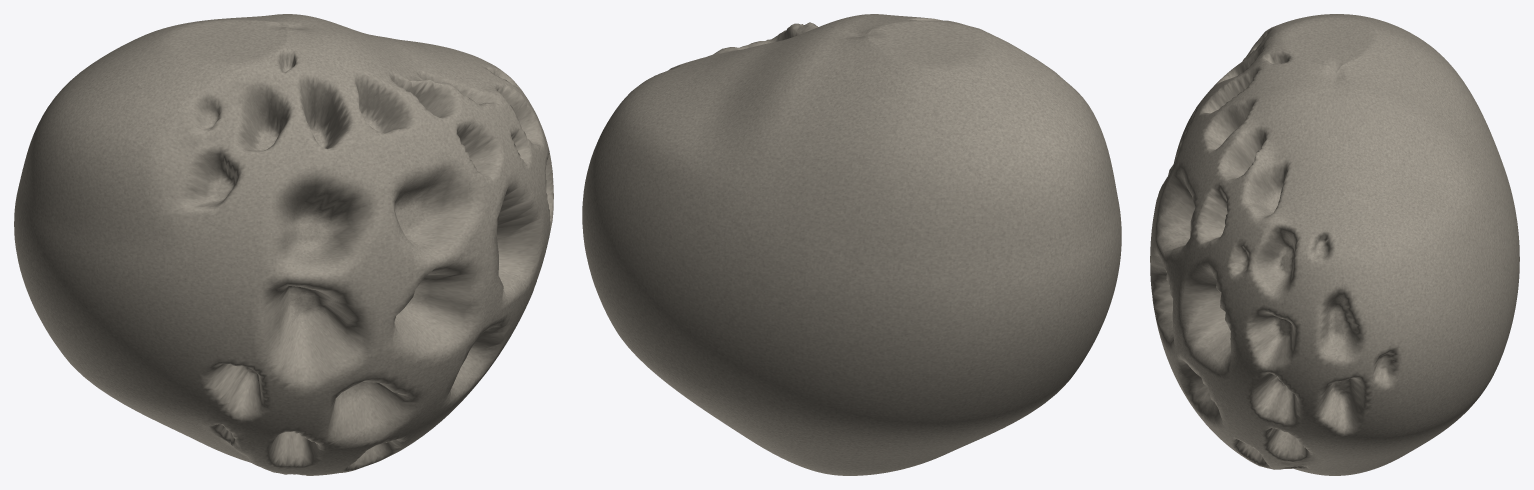
The picture shows the model from 3 angles, left to right: view 1: azimuth 30°, elevation 25°; view 2: azimuth 150°, elevation 25°; view 3: azimuth 270°, elevation 25°; orthographic projection. The views are drawn at different scales.
Visible parts, largest first — view 1: NEW677_LOD0; view 2: NEW677_LOD0; view 3: NEW677_LOD0.
Boxes of the visible parts, x1=… form: NEW677_LOD0: x1=14, y1=14, x2=553, y2=475; NEW677_LOD0: x1=582, y1=14, x2=1121, y2=475; NEW677_LOD0: x1=1150, y1=14, x2=1519, y2=475.
Bounding box in the file's own units: 1.6 × 1.35 × 1.15.
Materials: 1 (1 with a texture image).
